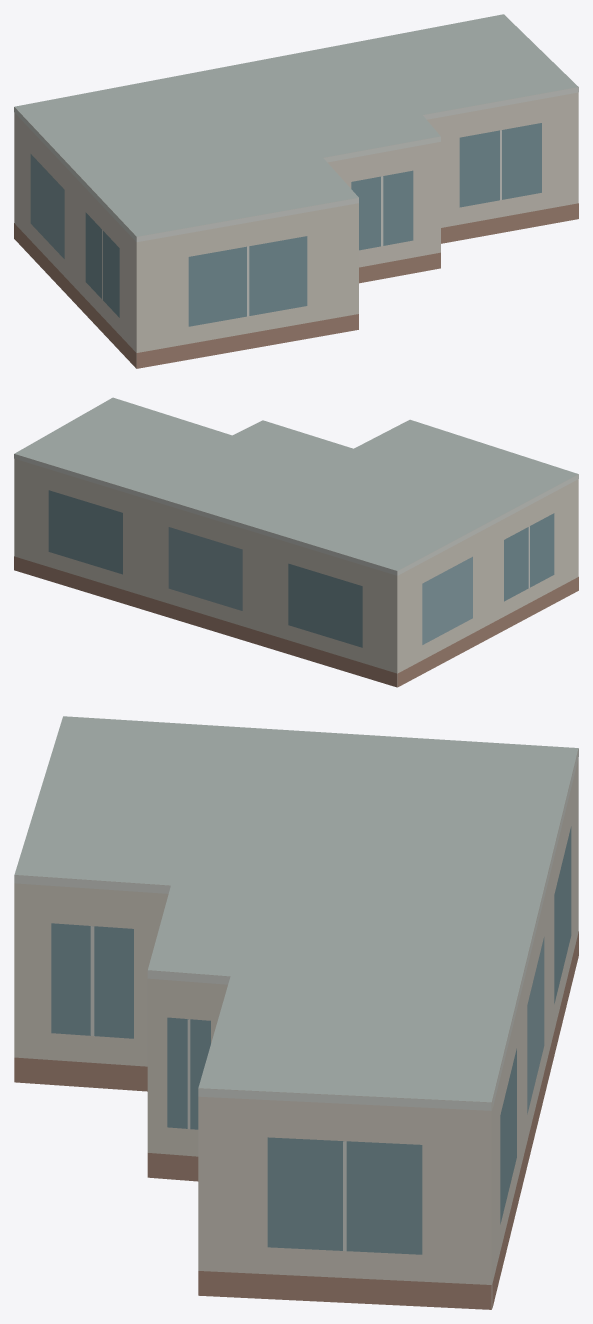
The model's file is survey-upis-32976069.glb.
3 views of the same model, one above another, from view 1: azimuth 30°, elevation 25°; view 2: azimuth 150°, elevation 25°; view 3: azimuth 270°, elevation 25° (orthographic). The views are drawn at different scales.
Parts seen in each view (by area): view 1: survey-upis-32976069.tmp; view 2: survey-upis-32976069.tmp; view 3: survey-upis-32976069.tmp.
Boxes of the visible parts, x1,y1,x2,y2 form: survey-upis-32976069.tmp: (14,14,578,368); survey-upis-32976069.tmp: (14,397,578,687); survey-upis-32976069.tmp: (14,716,578,1309).
Size of the model in its own units: 12.19 by 3.05 by 7.53.
